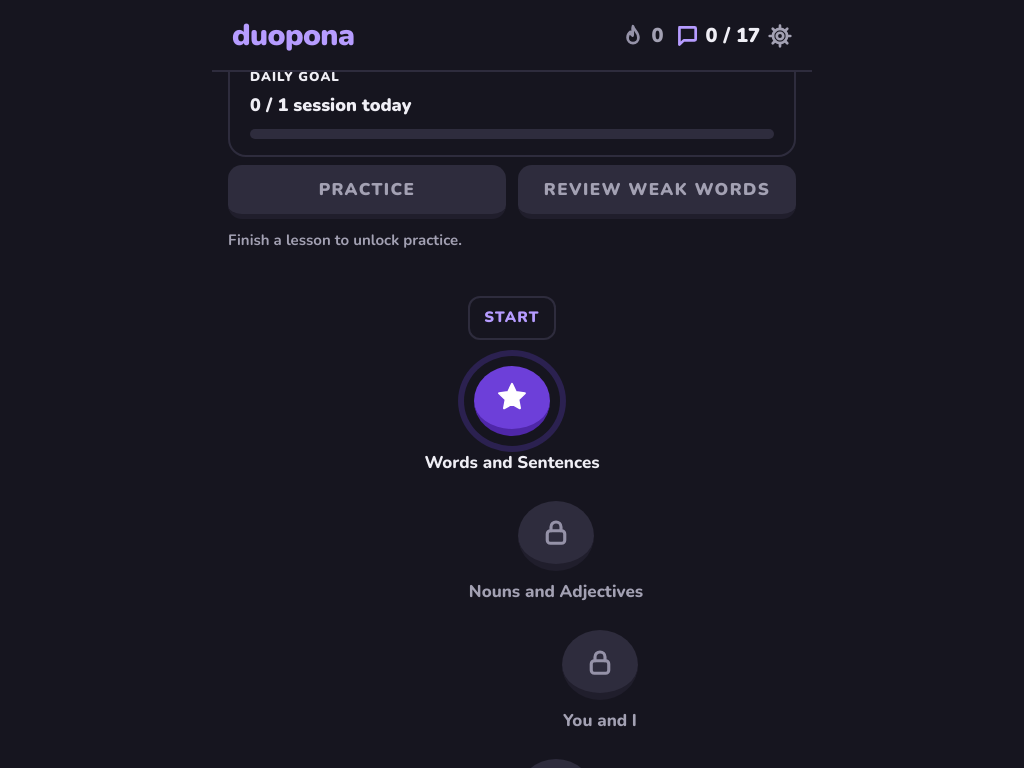
Test: settings (014 US3) › switches the whole app at once and saves the choice
(page scrolled)
Click the link named "Settings": (780, 36) [767,23,793,49]
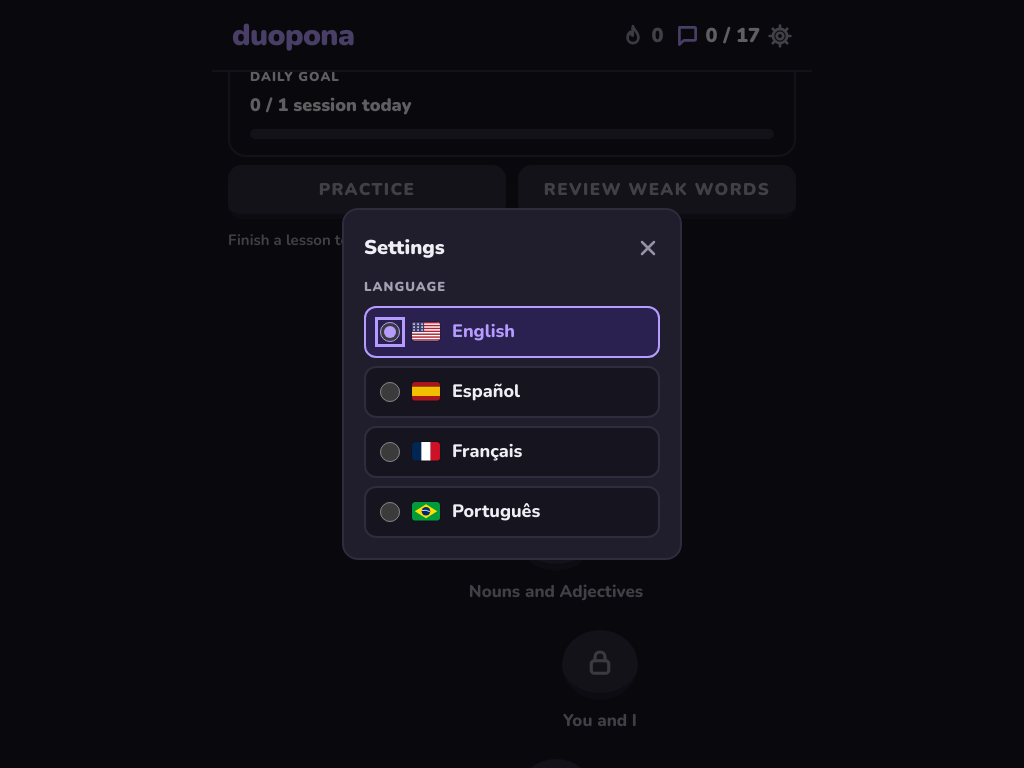
Click the radio button labelled "Português": (390, 512) [380,502,400,522]
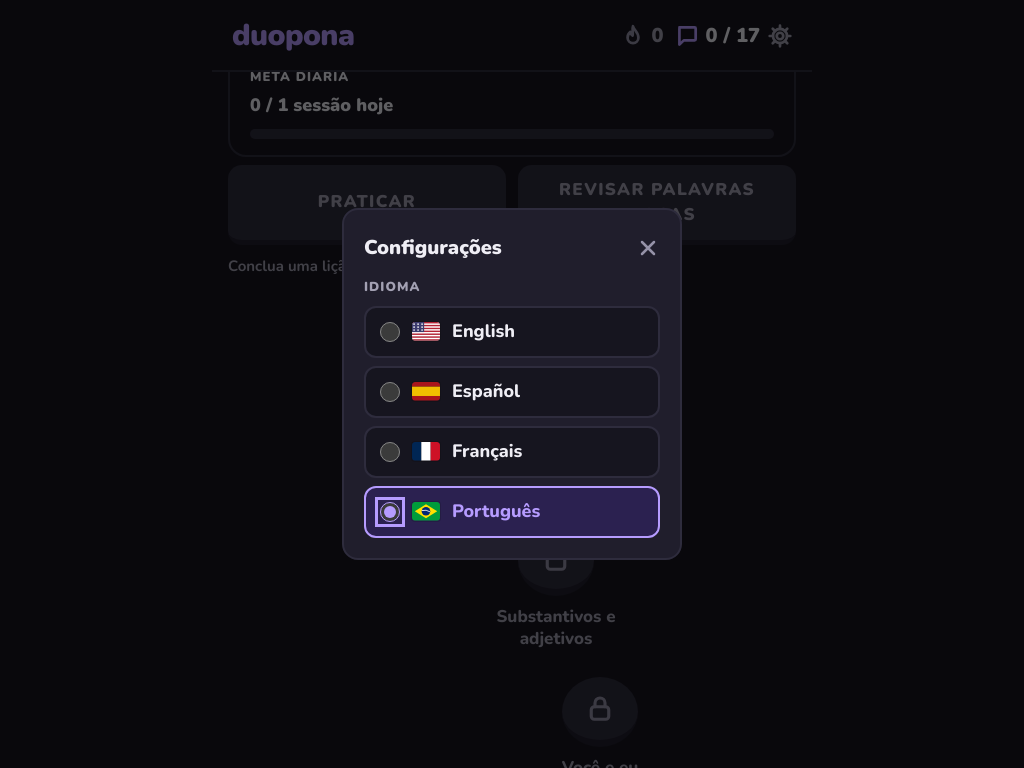
Expected: the radio button labelled "Português" is checked, [380,502,400,522]
Expected: the radio button labelled "English" is shown, [380,322,400,342]
Expected: the dialog "Configurações" is shown, [342,208,682,560]
